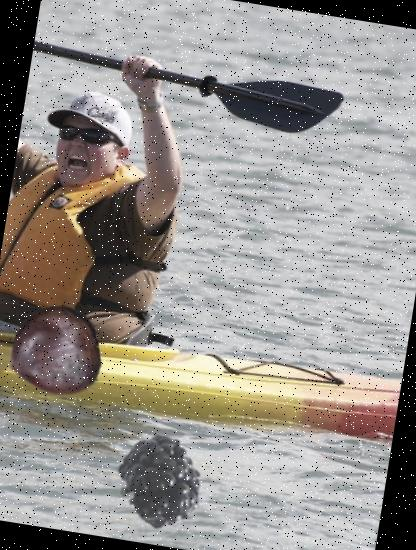Chestnut: (0, 297, 107, 405)
Mulberry: (107, 420, 232, 544)
